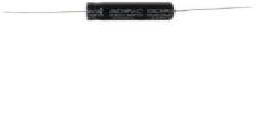Electrolytic-Capacitor: (10, 1, 253, 24)
